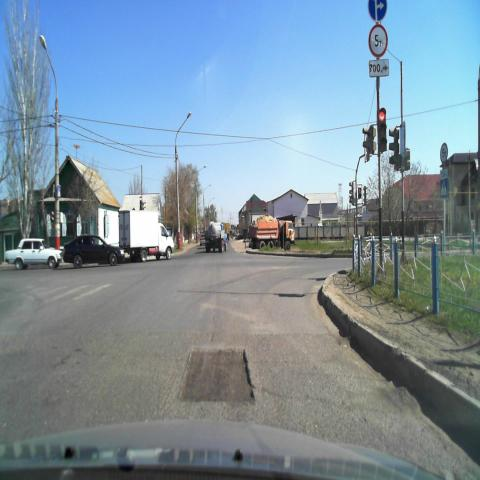3_11: (370, 28, 386, 56), (438, 141, 448, 167)
